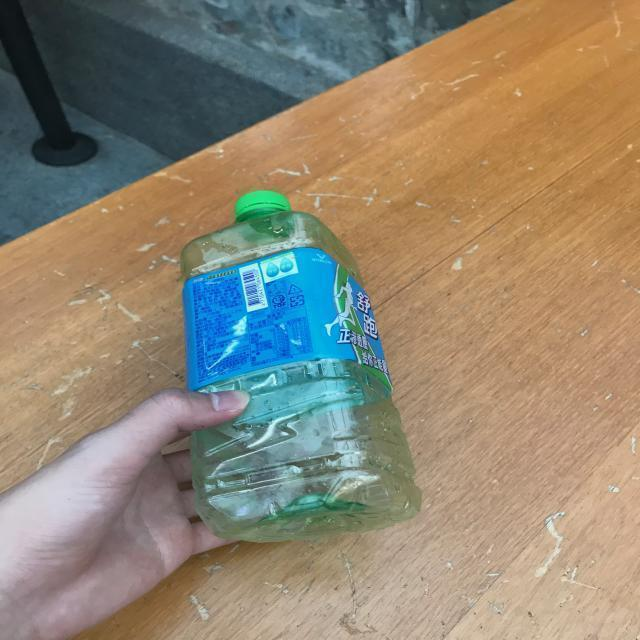Pet_Bottle: (180, 190, 420, 543)
